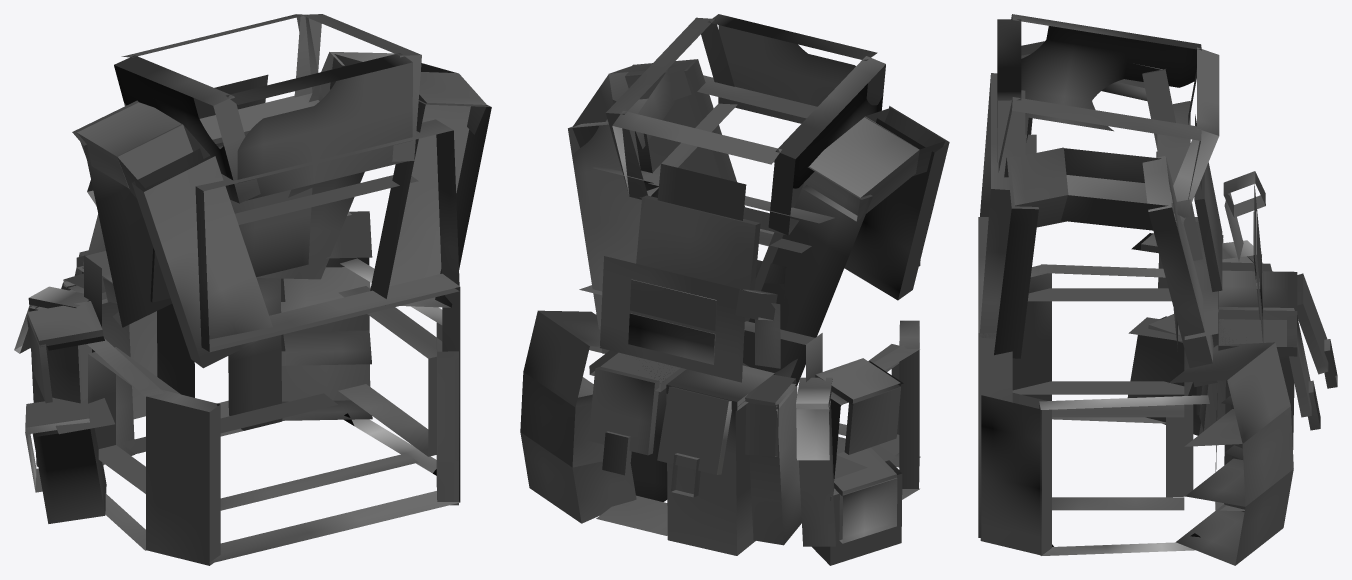
File: civilian_medic.obj
The picture shows the model from 3 angles, left to right: view 1: azimuth 30°, elevation 25°; view 2: azimuth 150°, elevation 25°; view 3: azimuth 270°, elevation 25°; orthographic projection. The views are drawn at different scales.
Parts seen in each view (by area): view 1: cube; view 2: cube; view 3: cube.
Boxes of the visible parts, x1,y1,x2,y2 form: cube: (14,14,491,565); cube: (520,14,949,565); cube: (978,14,1337,565).
Bounding box in the file's own units: 0.7603 × 0.8808 × 0.6546.
